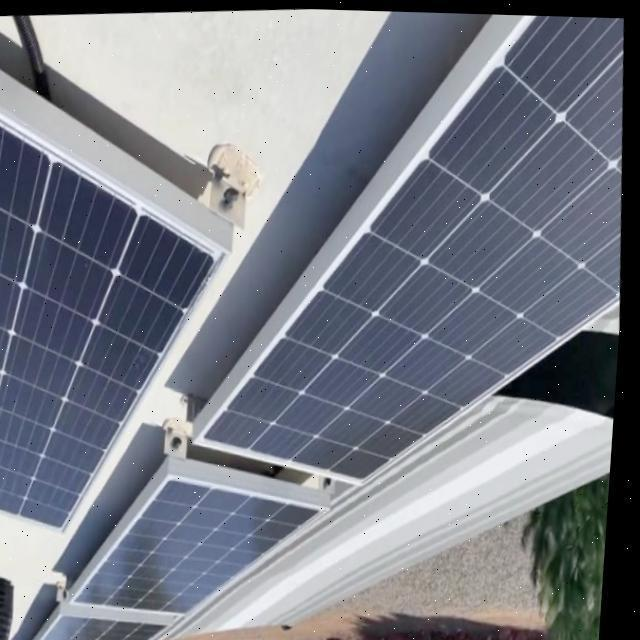Normal Solar Panel: (173, 5, 640, 498), (0, 86, 256, 542), (19, 458, 344, 640)
